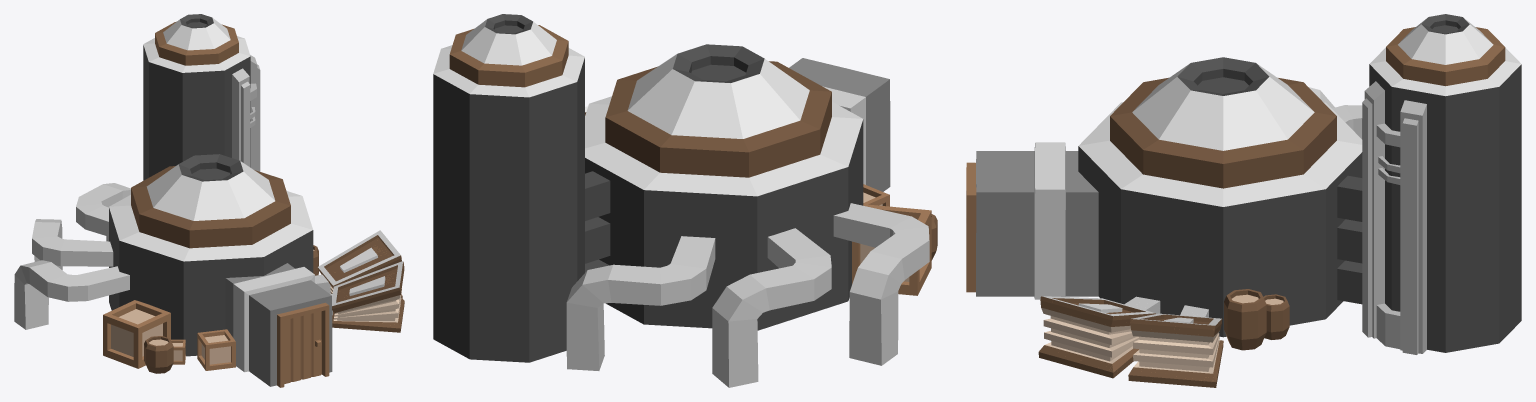
Rendered from forge.glb.
3 views of the same model, side by side, from view 1: azimuth 30°, elevation 25°; view 2: azimuth 150°, elevation 25°; view 3: azimuth 270°, elevation 25° (orthographic). The views are drawn at different scales.
Parts seen in each view (by area): view 1: Forge; view 2: Forge; view 3: Forge.
Part boxes in pixels (left/top/right/bottom): Forge: left=14, top=14, right=404, bottom=387; Forge: left=433, top=14, right=937, bottom=387; Forge: left=966, top=14, right=1521, bottom=387.
Size of the model in its own units: 7.15 by 4.56 by 7.73.
2 materials, 1 textured.
